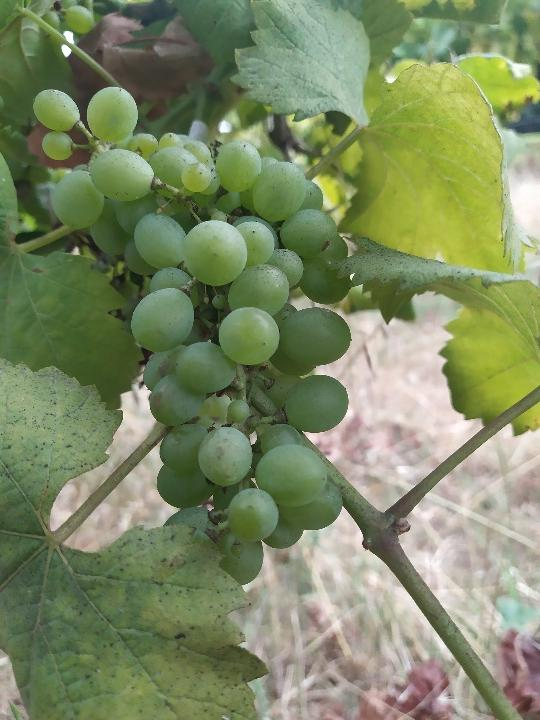grape: (30, 85, 356, 588)
